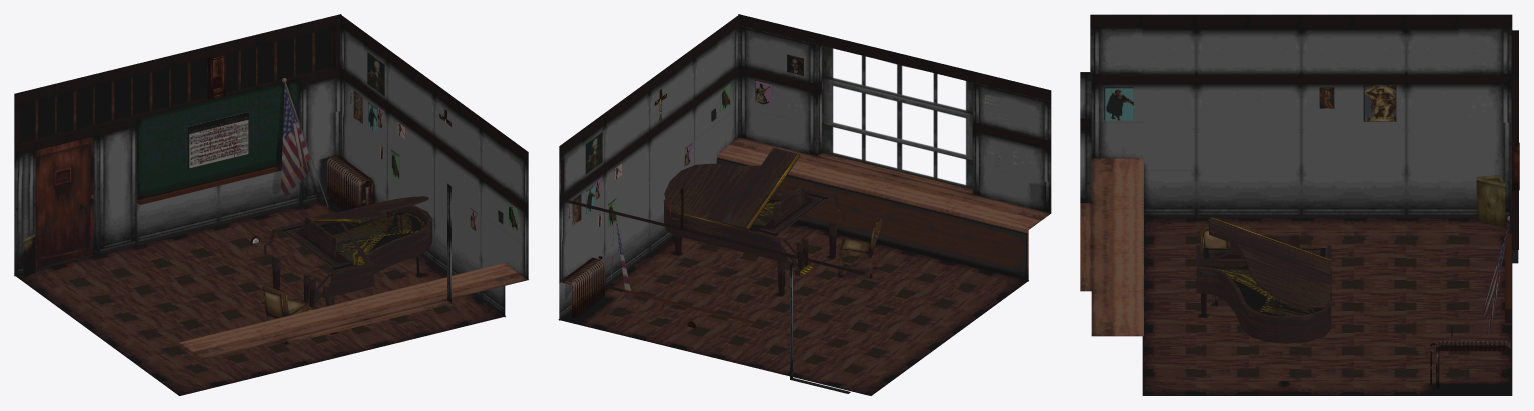
The model's file is SCFD00.glb.
3 views of the same model, side by side, from view 1: azimuth 30°, elevation 25°; view 2: azimuth 150°, elevation 25°; view 3: azimuth 270°, elevation 25° (orthographic). The views are drawn at different scales.
Parts seen in each view (by area): view 1: NULL1_m0, W4_FAR_m0, W5_FAR_m0, W3_FAR_m0, NULL1_m4, NULL1_m1, PIANO2_F_m0, NULL_NEA_m1, NULL_NEA_m2, NULL_NEA_m0, NULL_NEA_m3, PIANO3_F_m0 (+1 smaller); view 2: NULL1_m4, NULL1_m0, W5_FAR_m0, NULL_NEA_m2, NULL1_m1, NULL_NEA_m0, W4_FAR_m0, NULL_NEA_m3, PIANO3_F_m0, NULL_NEA_m1, PIANO2_F_m0, W3_FAR_m0; view 3: NULL1_m2, NULL1_m0, NULL1_m4, NULL_NEA_m2, NULL1_m1, NULL_NEA_m1, PIANO2_F_m0, W4_FAR_m0, NULL_NEA_m0, NULL_NEA_m3, W3_FAR_m0.
Boxes of the visible parts, x1,y1,x2,y2 form: NULL1_m0: (14, 54, 505, 395); W4_FAR_m0: (14, 14, 341, 276); W5_FAR_m0: (340, 14, 528, 317); W3_FAR_m0: (136, 77, 300, 245); NULL1_m4: (179, 183, 527, 359); NULL1_m1: (264, 219, 432, 298); PIANO2_F_m0: (299, 205, 432, 266); NULL_NEA_m1: (281, 78, 337, 257); NULL_NEA_m2: (262, 196, 428, 343); NULL_NEA_m0: (36, 52, 517, 280); NULL_NEA_m3: (327, 156, 372, 210); PIANO3_F_m0: (272, 255, 419, 333); NULL1_m4: (717, 14, 1051, 281); NULL1_m0: (558, 188, 1028, 395); W5_FAR_m0: (559, 14, 739, 320); NULL_NEA_m2: (664, 147, 882, 278); NULL1_m1: (664, 186, 844, 262); NULL_NEA_m0: (568, 54, 1029, 227); W4_FAR_m0: (561, 158, 865, 393); NULL_NEA_m3: (562, 256, 604, 321); PIANO3_F_m0: (674, 222, 836, 296); NULL_NEA_m1: (610, 185, 805, 300); PIANO2_F_m0: (663, 189, 811, 231); W3_FAR_m0: (598, 284, 757, 326); NULL1_m2: (1090, 14, 1512, 217); NULL1_m0: (1142, 142, 1519, 395); NULL1_m4: (1080, 72, 1143, 336); NULL_NEA_m2: (1197, 217, 1330, 308); NULL1_m1: (1196, 245, 1331, 343); NULL_NEA_m1: (1104, 84, 1509, 333); PIANO2_F_m0: (1198, 258, 1331, 318); W4_FAR_m0: (1511, 30, 1518, 263); NULL_NEA_m0: (1091, 177, 1505, 274); NULL_NEA_m3: (1430, 341, 1511, 388); W3_FAR_m0: (1505, 233, 1511, 325).
Size of the model in its own units: 6.44 by 3.54 by 6.7.
Materials: 27 (27 with a texture image).
